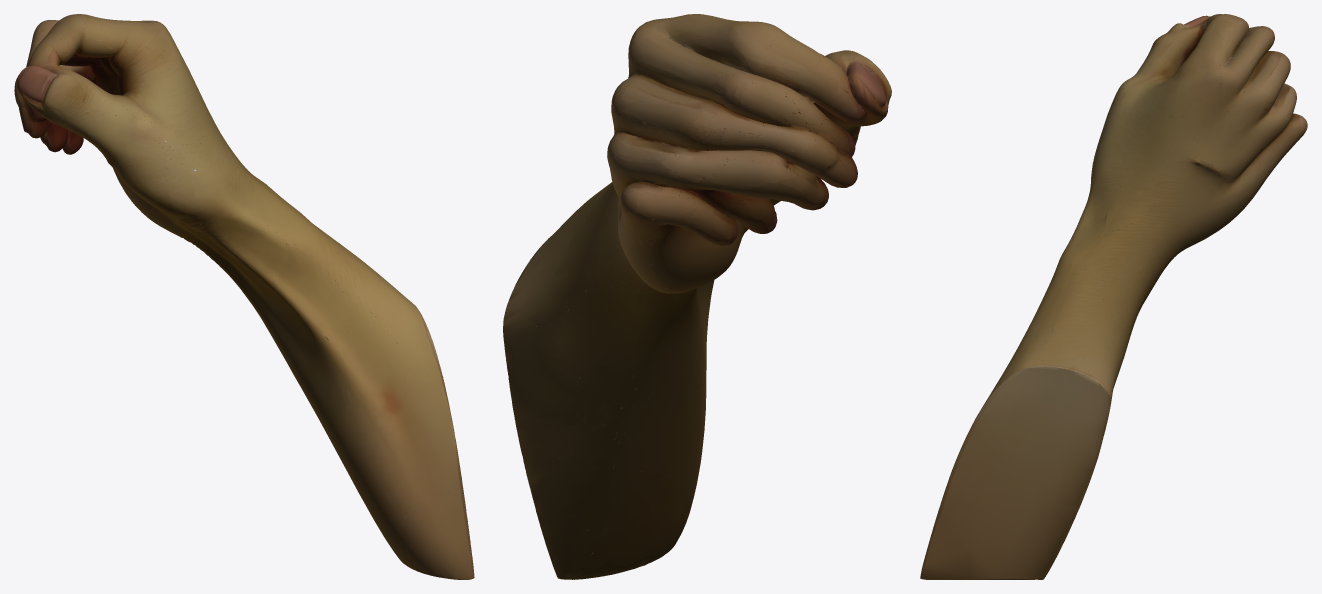
File: uploaded-hand-20260831.glb
3 renders of one model, left to right at view 1: azimuth 30°, elevation 25°; view 2: azimuth 150°, elevation 25°; view 3: azimuth 270°, elevation 25°, orthographic. The views are drawn at different scales.
Visible parts, largest first — view 1: node_0; view 2: node_0; view 3: node_0.
Boxes of the visible parts, bbox=[...] form: node_0: bbox=[14, 14, 474, 579]; node_0: bbox=[503, 14, 891, 579]; node_0: bbox=[920, 14, 1307, 579].
Bounding box in the file's own units: 0.5439 × 0.8541 × 0.6528.
Materials: 1 (1 with a texture image).
